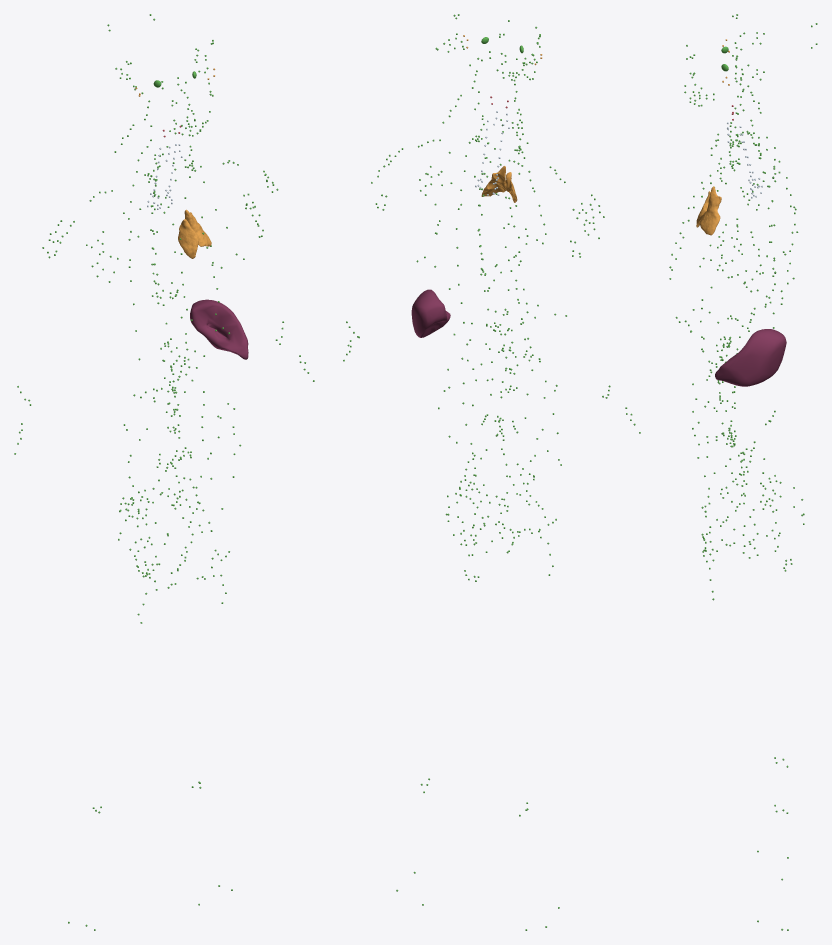
File: linfatico.glb
3 views of the same model, side by side, from view 1: azimuth 30°, elevation 25°; view 2: azimuth 150°, elevation 25°; view 3: azimuth 270°, elevation 25° (orthographic).
Visible parts, largest first — view 1: Spleen; view 2: Spleen; view 3: Spleen, Left lobe of thymus.
Part boxes in pixels (bbox=[...]): Spleen: bbox=[190, 299, 248, 359]; Spleen: bbox=[411, 289, 450, 337]; Spleen: bbox=[715, 329, 786, 386]; Left lobe of thymus: bbox=[699, 186, 721, 235].
Bounding box in the file's own units: 0.4523 × 1.28 × 0.1963.
